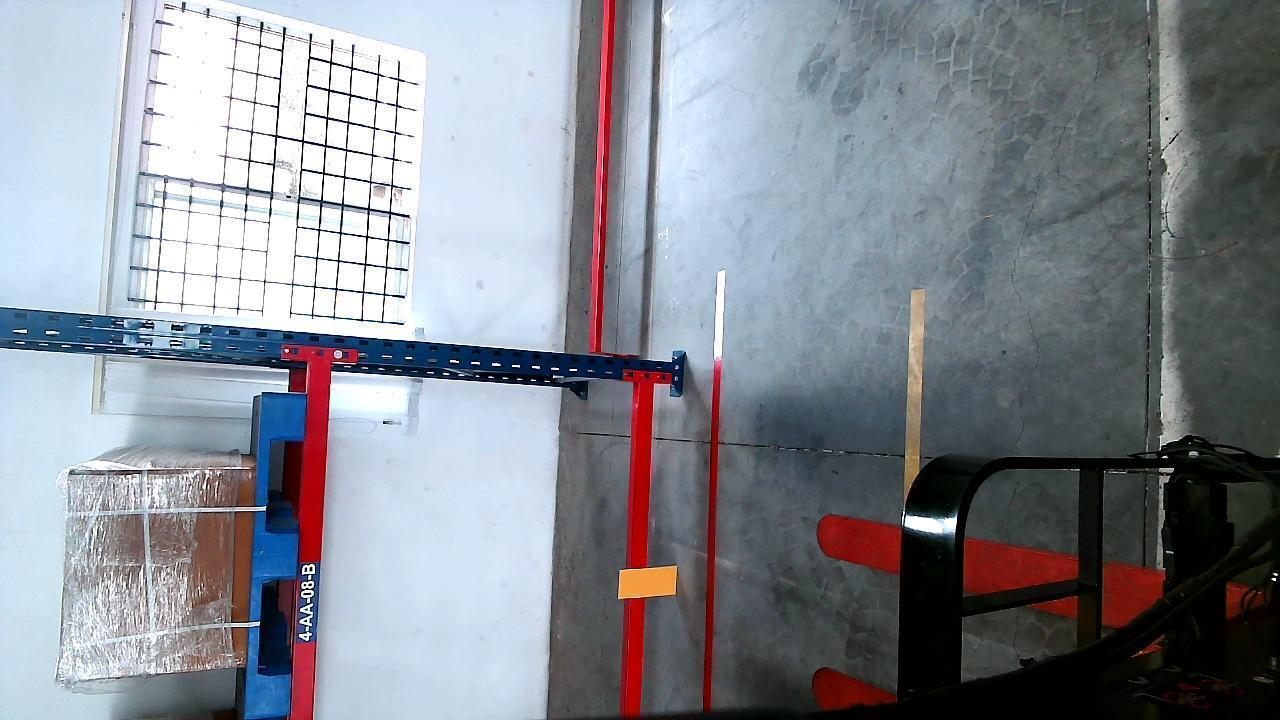red_line: (700, 261, 733, 716)
yellow_line: (905, 288, 924, 480)
